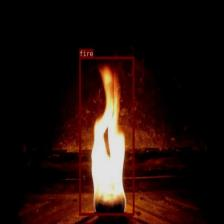fire: (79, 56, 134, 215)
